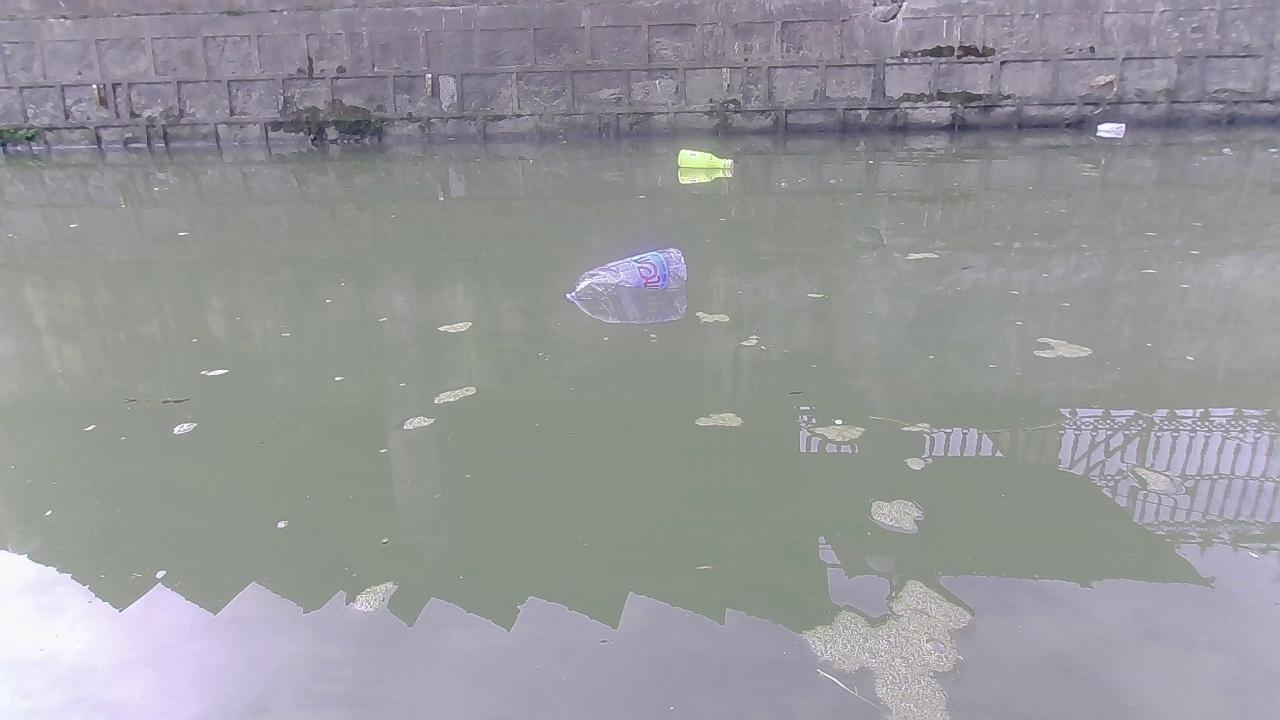Plastic: (564, 246, 689, 303), (677, 148, 735, 169), (1095, 121, 1127, 136)
